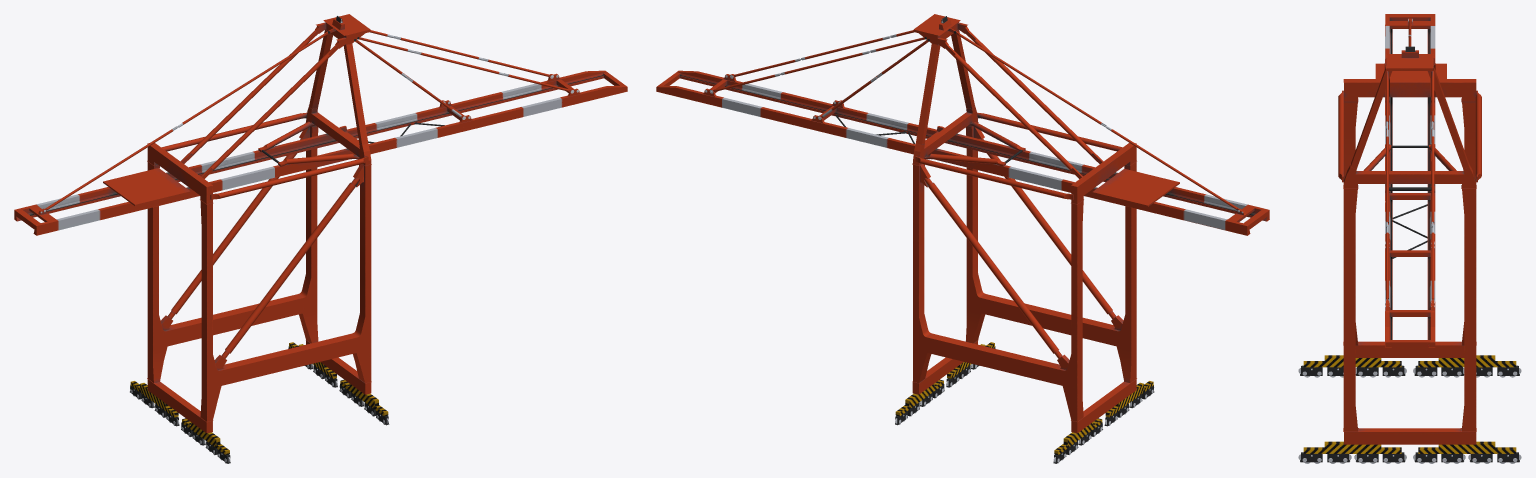
The model's file is LWZHGK_AnQiao_01.FBX.
3 views of the same model, side by side, from view 1: azimuth 30°, elevation 25°; view 2: azimuth 150°, elevation 25°; view 3: azimuth 270°, elevation 25° (orthographic). The views are drawn at different scales.
Visible parts, largest first — view 1: LWZHGK_AnQiao_031, LWZHGK_AnQiao_006, LWZHGK_AnQiao_007, LWZHGK_AnQiao_004, LWZHGK_AnQiao_002, LWZHGK_AnQiao_013, LWZHGK_AnQiao_024, LWZHGK_AnQiao_025, LWZHGK_AnQiao_001, LWZHGK_AnQiao_033, LWZHGK_AnQiao_003, LWZHGK_AnQiao_032 (+4 smaller); view 2: LWZHGK_AnQiao_031, LWZHGK_AnQiao_006, LWZHGK_AnQiao_007, LWZHGK_AnQiao_004, LWZHGK_AnQiao_002, LWZHGK_AnQiao_013, LWZHGK_AnQiao_024, LWZHGK_AnQiao_025, LWZHGK_AnQiao_001, LWZHGK_AnQiao_033, LWZHGK_AnQiao_003, LWZHGK_AnQiao_032 (+4 smaller); view 3: LWZHGK_AnQiao_031, LWZHGK_AnQiao_001, LWZHGK_AnQiao_032, LWZHGK_AnQiao_002, LWZHGK_AnQiao_033, LWZHGK_AnQiao_003, LWZHGK_AnQiao_007, LWZHGK_AnQiao_010, LWZHGK_AnQiao_016, LWZHGK_AnQiao_006, LWZHGK_AnQiao_025, LWZHGK_AnQiao_011 (+2 smaller).
Boxes of the visible parts, x1,y1,x2,y2 form: LWZHGK_AnQiao_031: [147, 122, 371, 422]; LWZHGK_AnQiao_006: [14, 133, 355, 235]; LWZHGK_AnQiao_007: [344, 70, 627, 154]; LWZHGK_AnQiao_004: [167, 138, 359, 358]; LWZHGK_AnQiao_002: [306, 29, 371, 165]; LWZHGK_AnQiao_013: [180, 30, 338, 178]; LWZHGK_AnQiao_024: [103, 168, 190, 206]; LWZHGK_AnQiao_025: [161, 112, 368, 199]; LWZHGK_AnQiao_001: [147, 340, 371, 433]; LWZHGK_AnQiao_033: [130, 381, 230, 463]; LWZHGK_AnQiao_003: [147, 143, 212, 204]; LWZHGK_AnQiao_032: [288, 342, 389, 425]; LWZHGK_AnQiao_031: [912, 122, 1136, 422]; LWZHGK_AnQiao_006: [928, 133, 1269, 235]; LWZHGK_AnQiao_007: [656, 70, 938, 154]; LWZHGK_AnQiao_004: [924, 138, 1116, 358]; LWZHGK_AnQiao_002: [912, 29, 977, 165]; LWZHGK_AnQiao_013: [945, 30, 1103, 178]; LWZHGK_AnQiao_024: [1092, 168, 1179, 206]; LWZHGK_AnQiao_025: [915, 112, 1122, 199]; LWZHGK_AnQiao_001: [912, 341, 1136, 433]; LWZHGK_AnQiao_033: [1053, 381, 1154, 463]; LWZHGK_AnQiao_003: [1071, 143, 1136, 204]; LWZHGK_AnQiao_032: [895, 342, 995, 425]; LWZHGK_AnQiao_031: [1343, 98, 1476, 431]; LWZHGK_AnQiao_001: [1344, 341, 1476, 444]; LWZHGK_AnQiao_032: [1298, 441, 1521, 463]; LWZHGK_AnQiao_002: [1344, 66, 1476, 188]; LWZHGK_AnQiao_033: [1298, 355, 1521, 377]; LWZHGK_AnQiao_003: [1343, 79, 1476, 101]; LWZHGK_AnQiao_007: [1385, 193, 1435, 347]; LWZHGK_AnQiao_010: [1389, 14, 1430, 346]; LWZHGK_AnQiao_016: [1386, 71, 1434, 300]; LWZHGK_AnQiao_006: [1385, 14, 1435, 200]; LWZHGK_AnQiao_025: [1338, 90, 1481, 182]; LWZHGK_AnQiao_011: [1386, 54, 1433, 70].
Bounding box in the file's own units: 130606 × 78774 × 38153.
